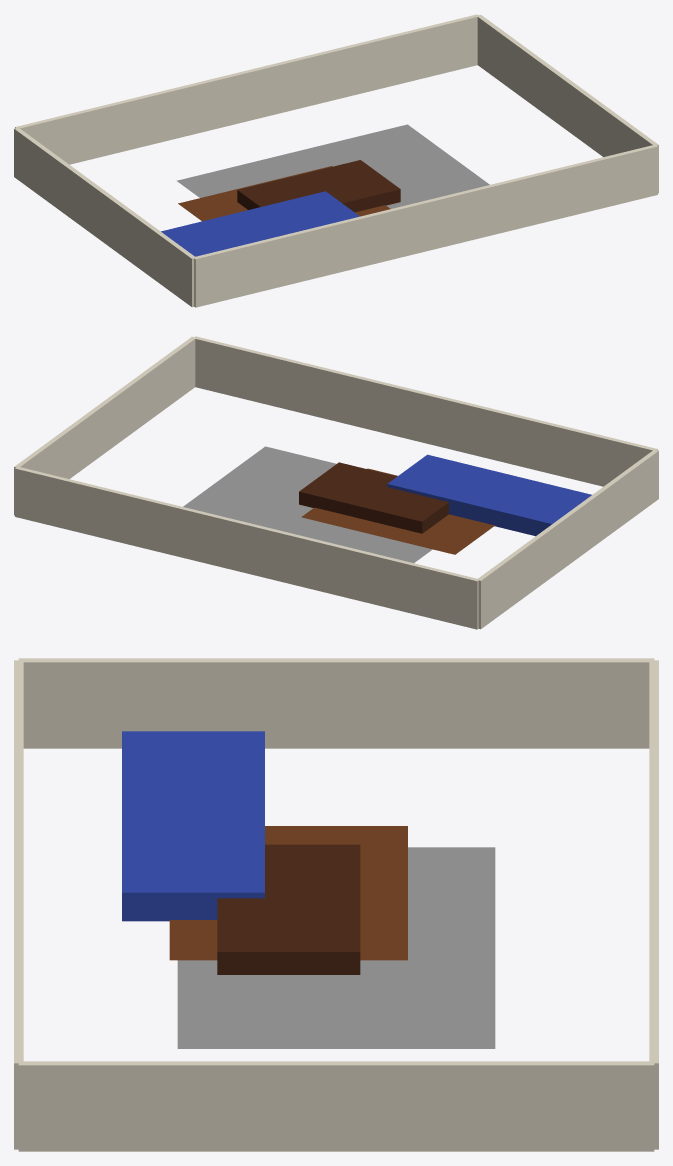
File: boq_professional_6a72ab30-6ab2-41bf-9eaa-0d01f545fa09.obj
3 renders of one model, top to bottom at view 1: azimuth 30°, elevation 25°; view 2: azimuth 150°, elevation 25°; view 3: azimuth 270°, elevation 25°, orthographic. The views are drawn at different scales.
Visible parts, largest first — view 1: ExteriorWall_South, ExteriorWall_North, Foundation, ExteriorWall_West, ExteriorWall_East, Sofa_test_room, CoffeeTable_test_room, Floor_test_room; view 2: ExteriorWall_North, ExteriorWall_South, ExteriorWall_West, Foundation, ExteriorWall_East, Sofa_test_room, CoffeeTable_test_room, Floor_test_room; view 3: ExteriorWall_East, ExteriorWall_West, Foundation, Sofa_test_room, CoffeeTable_test_room, Floor_test_room, ExteriorWall_South, ExteriorWall_North.
Boxes of the visible parts, left/top/right/bottom form: ExteriorWall_South: left=194, top=145, right=657, bottom=307; ExteriorWall_North: left=15, top=14, right=479, bottom=164; Foundation: left=176, top=124, right=489, bottom=208; ExteriorWall_West: left=14, top=127, right=196, bottom=307; ExteriorWall_East: left=477, top=14, right=658, bottom=193; Sofa_test_room: left=161, top=191, right=359, bottom=256; CoffeeTable_test_room: left=237, top=160, right=400, bottom=212; Floor_test_room: left=178, top=166, right=390, bottom=221; ExteriorWall_North: left=15, top=466, right=479, bottom=629; ExteriorWall_South: left=193, top=336, right=657, bottom=486; ExteriorWall_West: left=476, top=449, right=658, bottom=629; Foundation: left=183, top=446, right=432, bottom=562; ExteriorWall_East: left=14, top=336, right=196, bottom=515; Sofa_test_room: left=387, top=454, right=591, bottom=536; CoffeeTable_test_room: left=299, top=462, right=448, bottom=533; Floor_test_room: left=301, top=468, right=494, bottom=554; ExteriorWall_East: left=18, top=1061, right=654, bottom=1151; ExteriorWall_West: left=18, top=658, right=654, bottom=748; Foundation: left=177, top=847, right=495, bottom=1048; Sofa_test_room: left=122, top=731, right=264, bottom=921; CoffeeTable_test_room: left=217, top=844, right=360, bottom=974; Floor_test_room: left=169, top=826, right=407, bottom=960; ExteriorWall_South: left=14, top=660, right=23, bottom=1149; ExteriorWall_North: left=649, top=660, right=658, bottom=1149.
Bounding box in the file's own units: 30.3 × 3 × 20.3.
